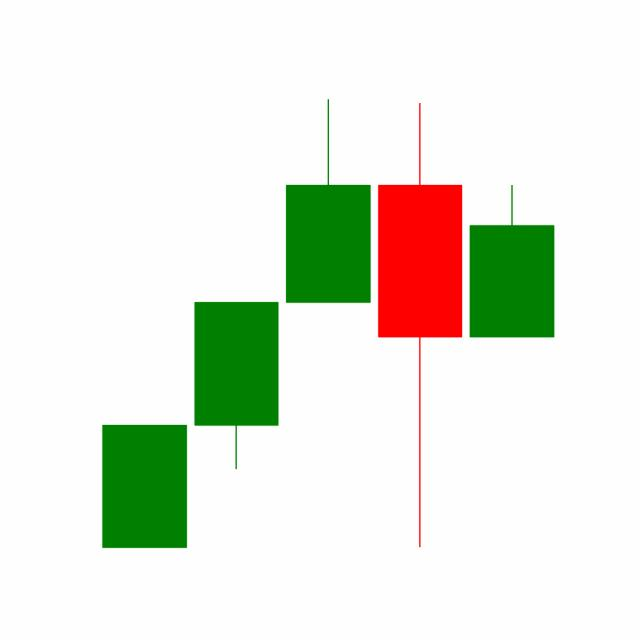Hammer: (373, 98, 467, 552)
